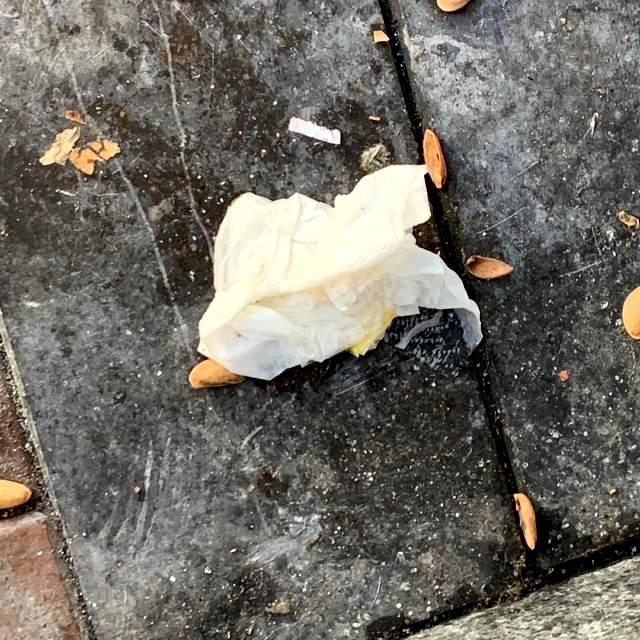Paper: (194, 162, 483, 384)
